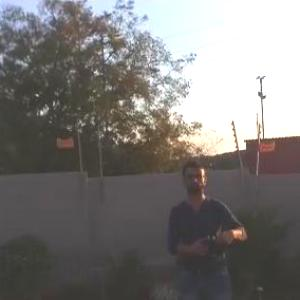follow: (162, 154, 252, 299)
